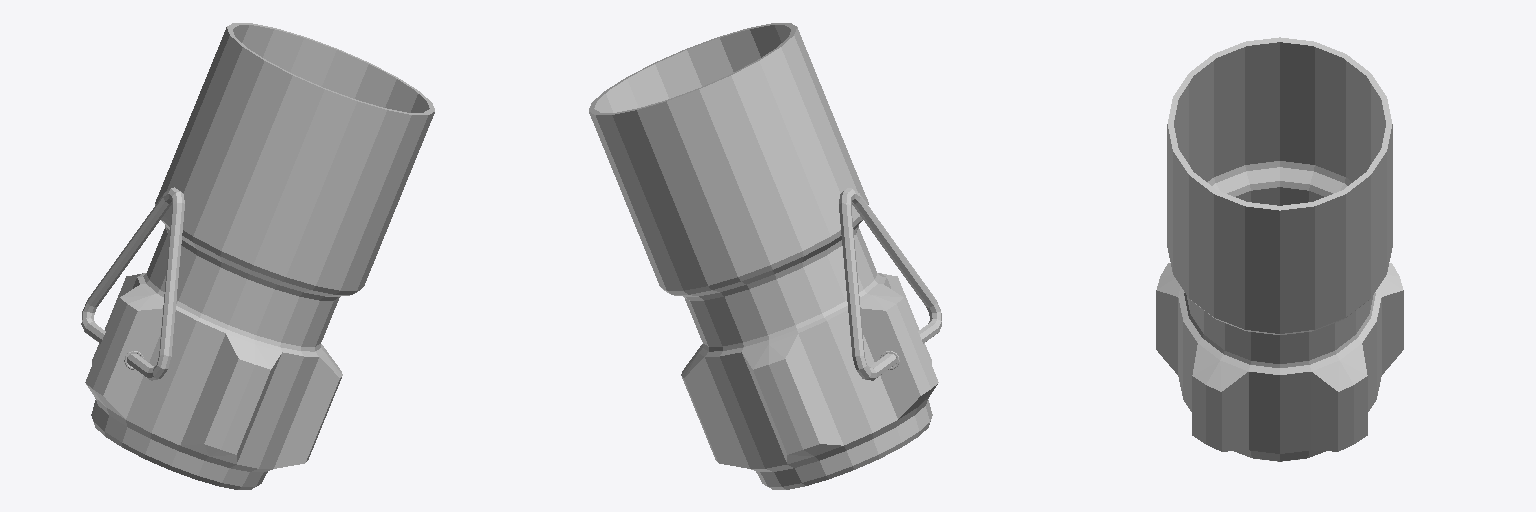
File: Pommel_Luke.obj
3 renders of one model, left to right at view 1: azimuth 30°, elevation 25°; view 2: azimuth 150°, elevation 25°; view 3: azimuth 270°, elevation 25°, orthographic.
Visible parts, largest first — view 1: Pommel_Luke Luke_GRP; view 2: Pommel_Luke Luke_GRP; view 3: Pommel_Luke Luke_GRP.
Part boxes in pixels (x1,y1,x2,y2): Pommel_Luke Luke_GRP: (81, 23, 434, 489); Pommel_Luke Luke_GRP: (589, 23, 941, 489); Pommel_Luke Luke_GRP: (1156, 37, 1403, 461).
Size of the model in its own units: 4.74 by 5.88 by 3.11.